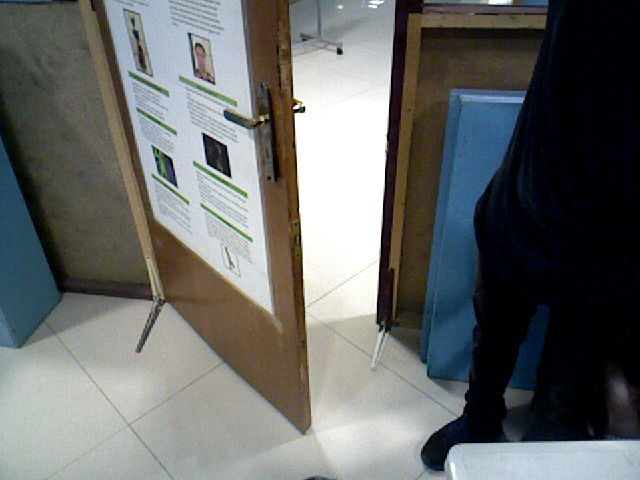door_handle: (221, 79, 283, 188)
